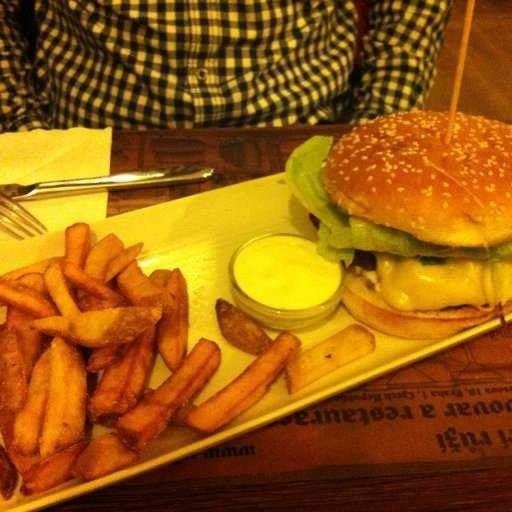hamburger: (284, 114, 512, 333)
